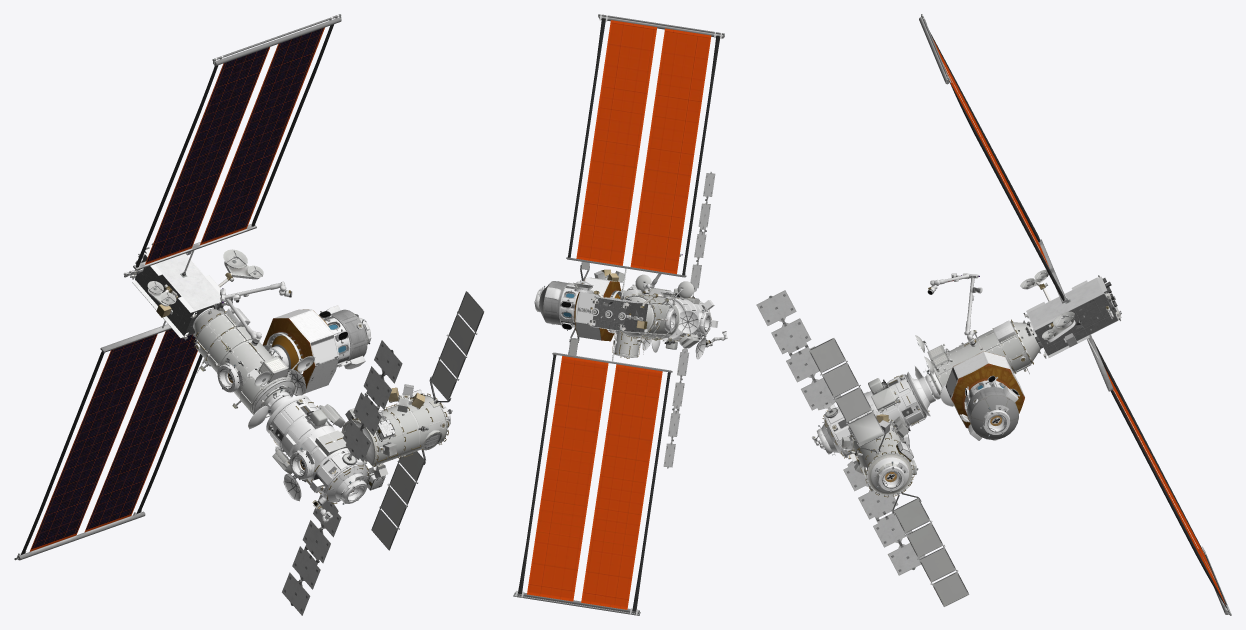
Rendered from gateway.glb.
3 views of the same model, side by side, from view 1: azimuth 30°, elevation 25°; view 2: azimuth 150°, elevation 25°; view 3: azimuth 270°, elevation 25° (orthographic). The views are drawn at different scales.
Parts seen in each view (by area): view 1: Maxar_PPE Array, I-Hab, Airlock, NG_HALO.001, ERMXL_LoRes, Maxar_PPE.001, NDS port active hatch.006, NDS port active hatch.007, Big Arm_1; view 2: Maxar_PPE Array, I-Hab, ERMXL_LoRes, Maxar_PPE.001, NG_HALO.001, Airlock, NDS port active hatch.006, NDS port active hatch.007; view 3: Airlock, I-Hab, Maxar_PPE Array, Maxar_PPE.001, ERMXL_LoRes, NG_HALO.001, NDS port active hatch.006, NDS port active hatch.007, Big Arm_1.
Part boxes in pixels (x1,y1,x2,y2): Maxar_PPE Array: (14, 14, 341, 560); I-Hab: (266, 340, 402, 615); Airlock: (341, 291, 484, 550); NG_HALO.001: (193, 307, 315, 417); ERMXL_LoRes: (262, 305, 367, 393); Maxar_PPE.001: (123, 243, 263, 340); NDS port active hatch.006: (248, 396, 450, 504); NDS port active hatch.007: (217, 314, 371, 414); Big Arm_1: (220, 281, 332, 522); Maxar_PPE Array: (513, 14, 724, 615); I-Hab: (662, 172, 718, 468); ERMXL_LoRes: (539, 277, 624, 341); Maxar_PPE.001: (573, 281, 675, 333); NG_HALO.001: (620, 274, 693, 354); Airlock: (568, 262, 650, 358); NDS port active hatch.006: (642, 307, 711, 359); NDS port active hatch.007: (534, 286, 677, 332); Airlock: (809, 338, 969, 606); I-Hab: (756, 290, 930, 575); Maxar_PPE Array: (919, 14, 1231, 615); Maxar_PPE.001: (1020, 269, 1121, 358); ERMXL_LoRes: (945, 351, 1024, 440); NG_HALO.001: (915, 319, 1040, 396); NDS port active hatch.006: (816, 366, 935, 491); NDS port active hatch.007: (925, 342, 1010, 436); Big Arm_1: (811, 273, 982, 448).
Size of the model in its own units: 17.88 by 38.97 by 30.07.
13 materials, 13 textured.
